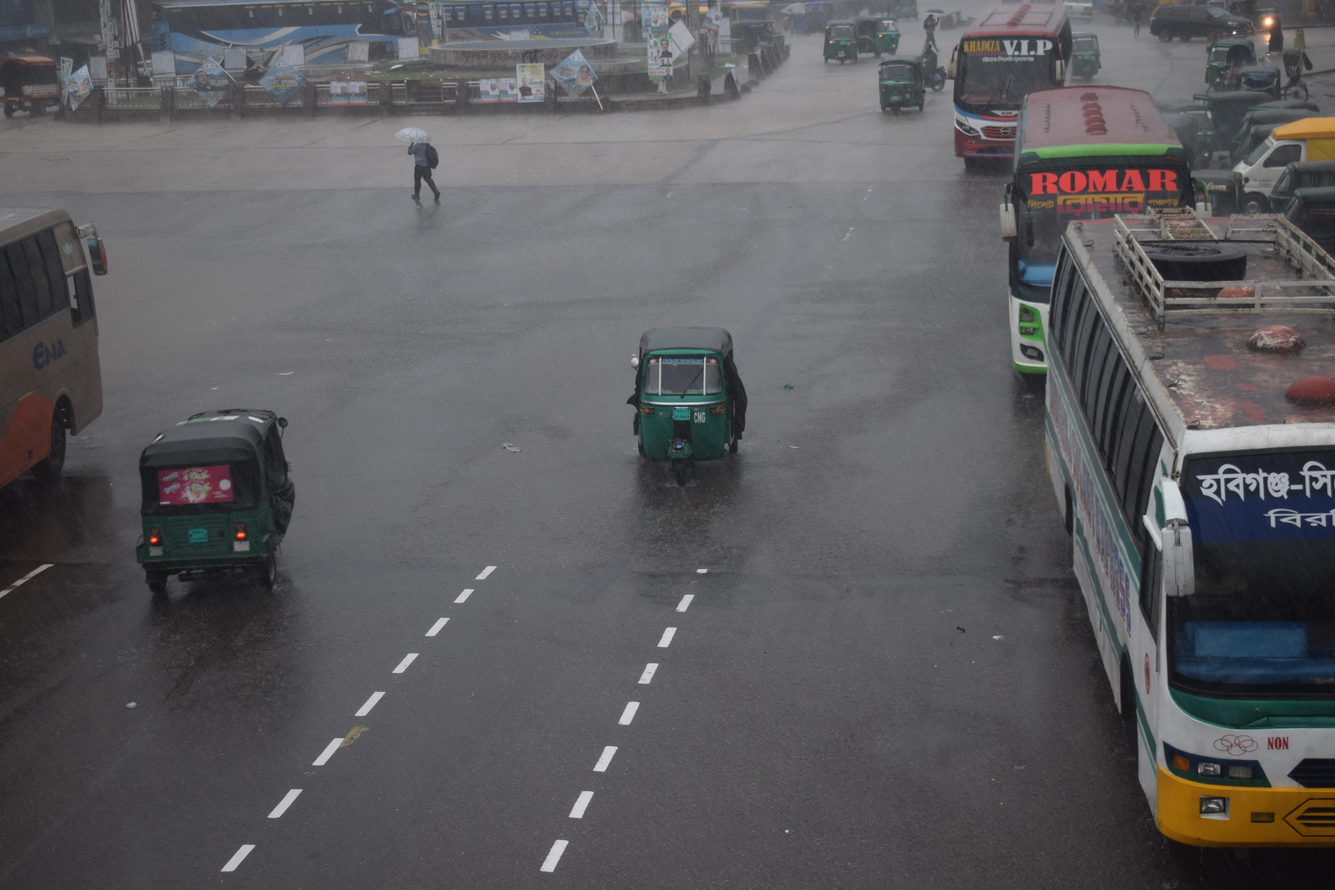Bus: (991, 206, 1335, 865), (954, 83, 1189, 385), (0, 174, 139, 526), (929, 0, 1112, 192), (121, 0, 420, 89), (420, 0, 644, 78)
Car: (1214, 118, 1335, 195), (1128, 0, 1261, 58)
